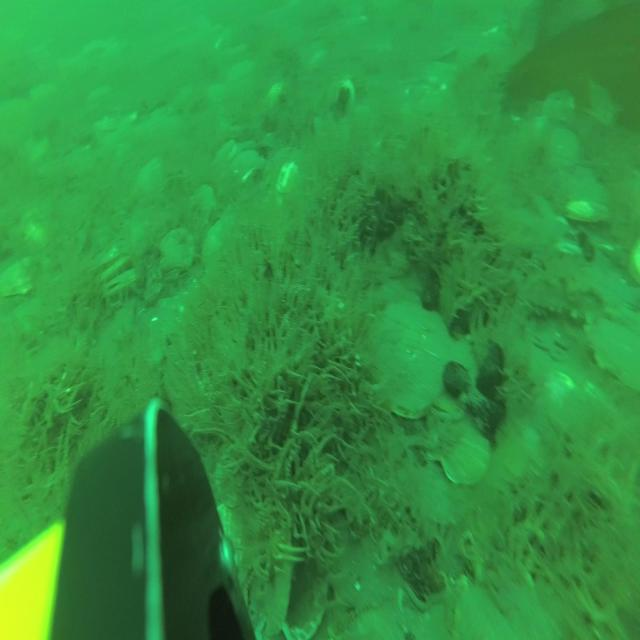holothurian: (519, 273, 596, 324)
scallop: (368, 294, 452, 418), (585, 314, 640, 394), (433, 332, 483, 413), (438, 412, 490, 488), (415, 459, 466, 529), (451, 578, 507, 640), (561, 164, 607, 216), (2, 255, 52, 298), (161, 226, 198, 282), (134, 159, 169, 206), (544, 127, 580, 172), (188, 181, 218, 228), (543, 83, 572, 124), (104, 271, 140, 299), (99, 258, 130, 288), (95, 243, 122, 270)
